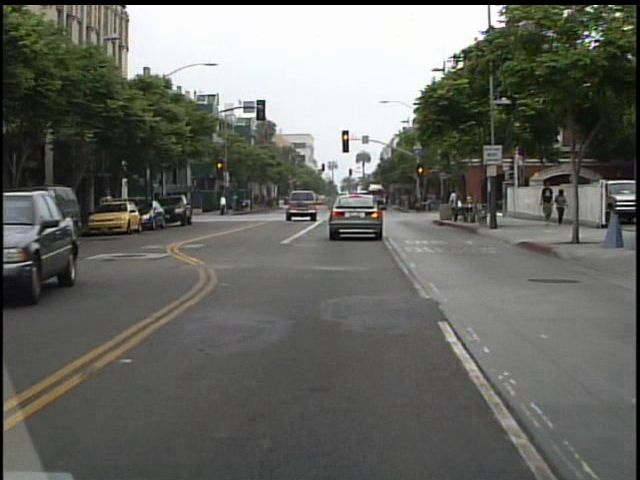person: (537, 182, 555, 226), (445, 187, 464, 225), (552, 187, 569, 228), (217, 189, 231, 217)
